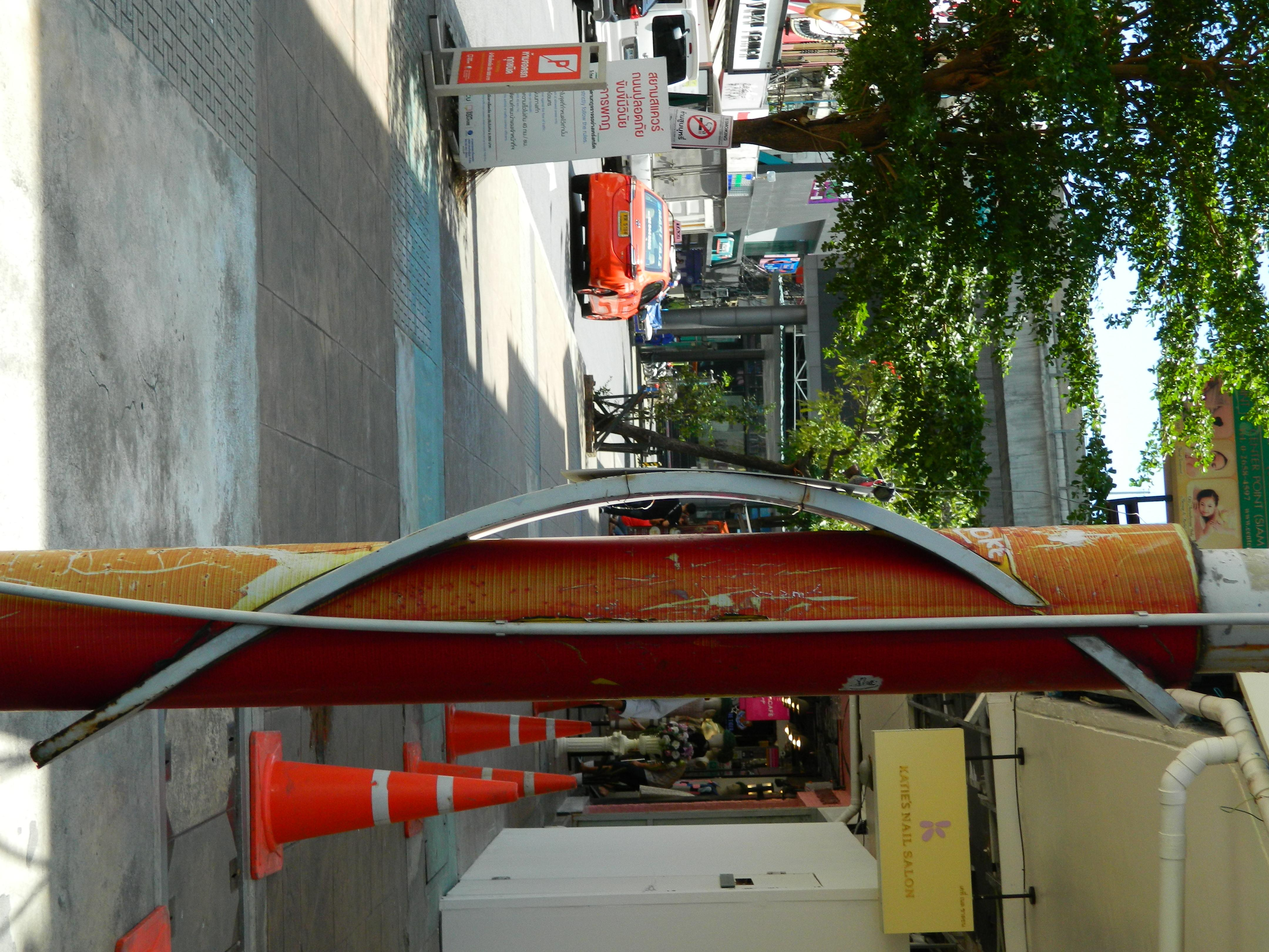wires-only: (549, 216, 757, 591)
